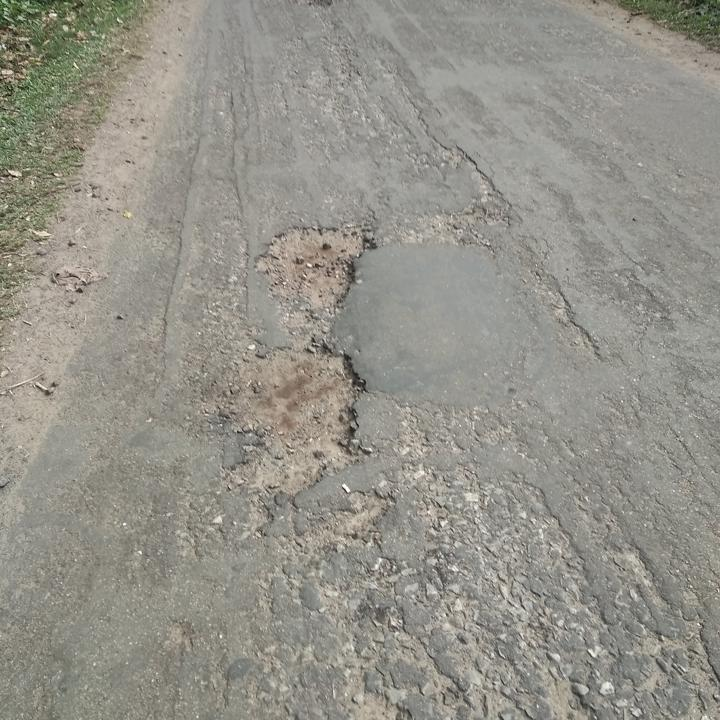pothole: (211, 341, 373, 506), (251, 217, 382, 327)
